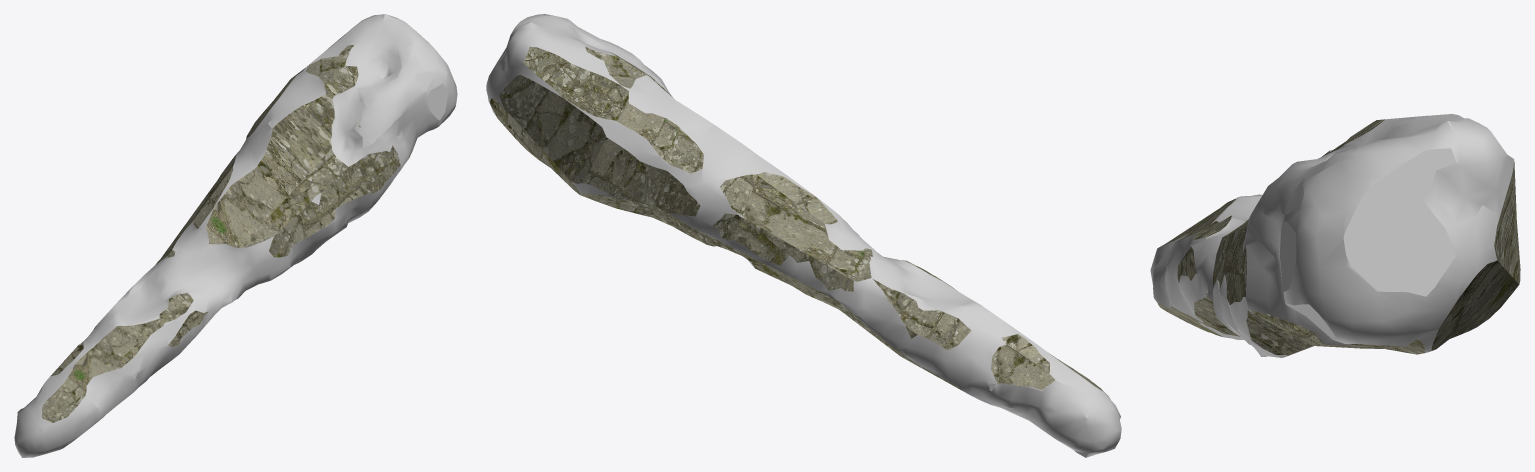
Rendered from SM_Chateaux_04_08.fbx.
The picture shows the model from 3 angles, left to right: view 1: azimuth 30°, elevation 25°; view 2: azimuth 150°, elevation 25°; view 3: azimuth 270°, elevation 25°; orthographic projection. The views are drawn at different scales.
Parts seen in each view (by area): view 1: SM_Chateaux_04_08; view 2: SM_Chateaux_04_08; view 3: SM_Chateaux_04_08.
Boxes of the visible parts, box(x1,y1,x2,y2) form: SM_Chateaux_04_08: box(14, 14, 457, 457); SM_Chateaux_04_08: box(486, 14, 1121, 457); SM_Chateaux_04_08: box(1150, 114, 1520, 357).
Size of the model in its own units: 1735 by 1051 by 584.
